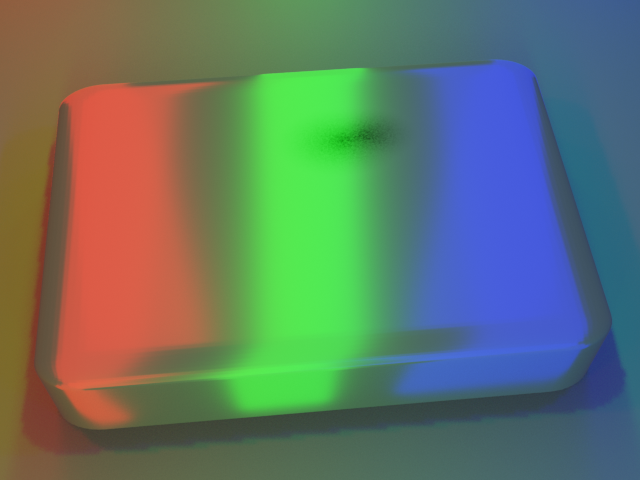stain: (268, 74, 465, 180)
